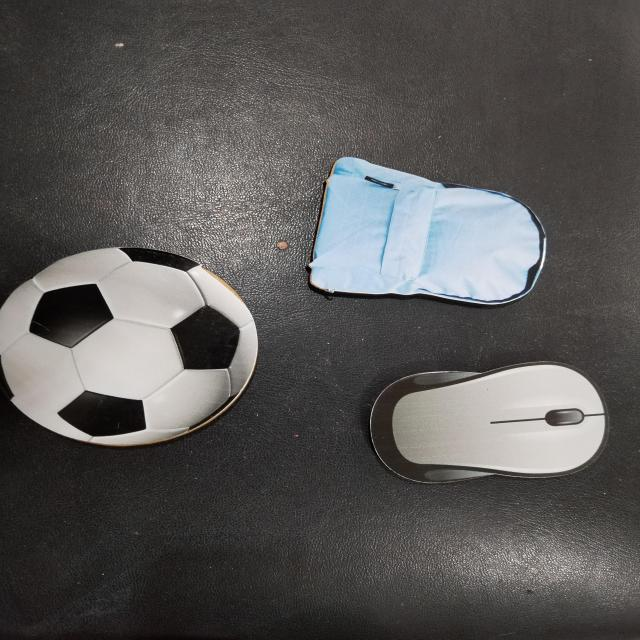Other Objects: (0, 248, 257, 445), (305, 155, 558, 313), (365, 359, 613, 486)
